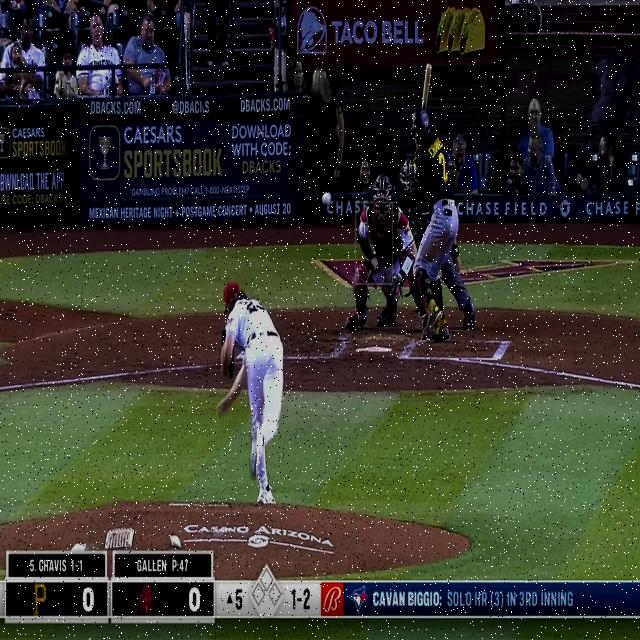baseball: (322, 192, 331, 206)
